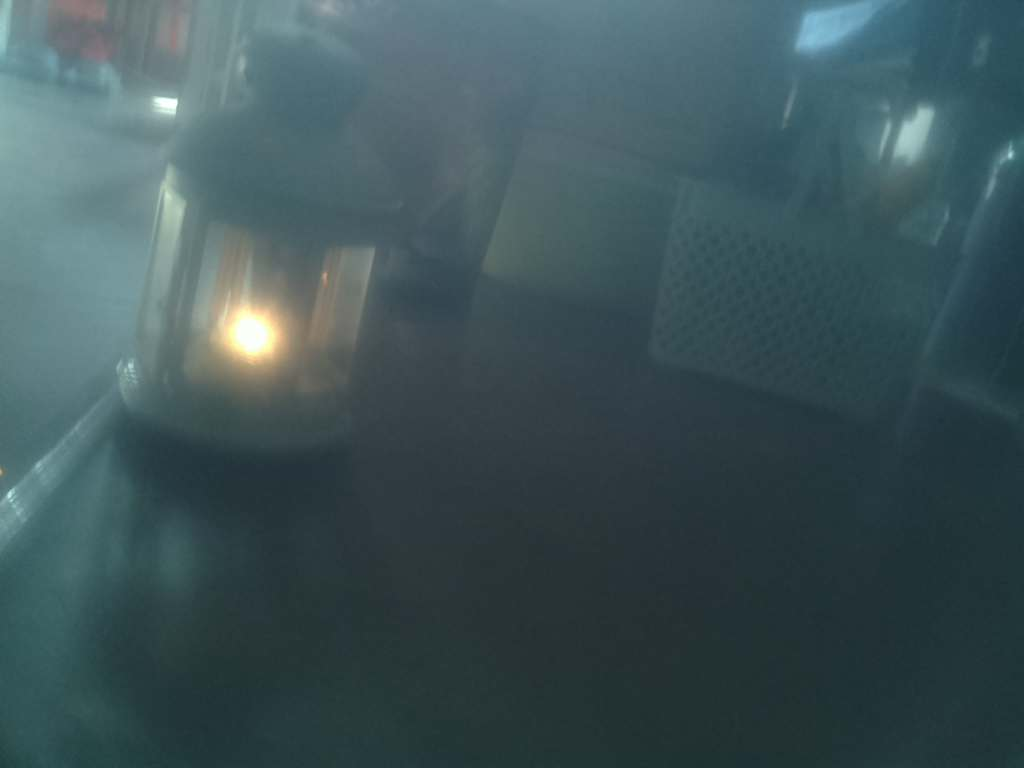fire: (202, 297, 300, 372)
